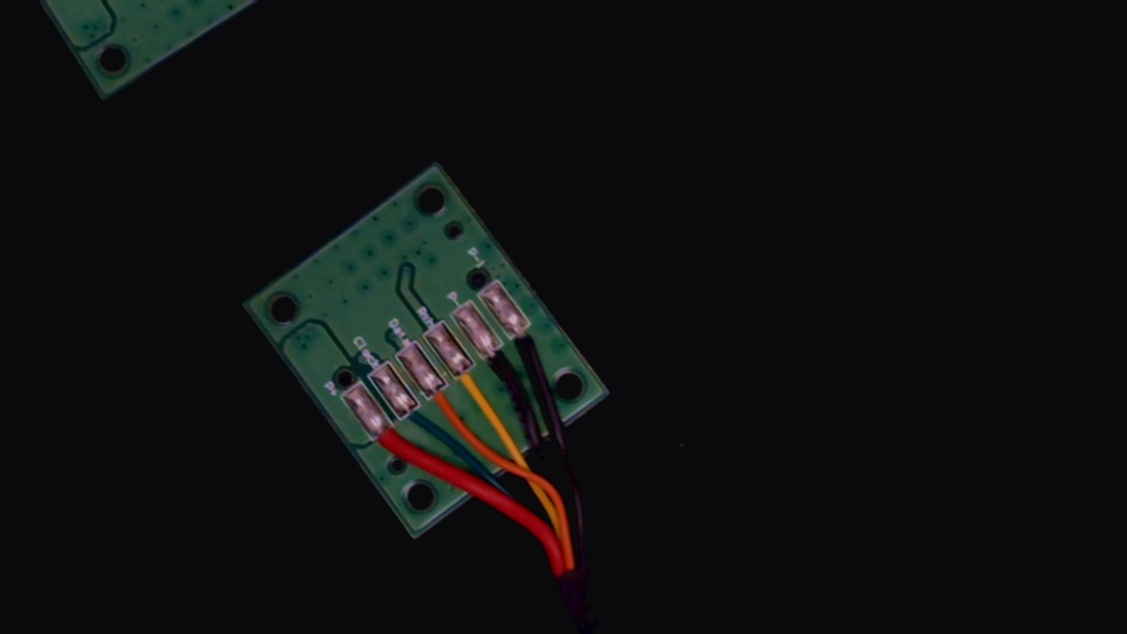Black: (472, 332, 525, 393)
Black1: (500, 310, 551, 369)
Green: (387, 391, 441, 453)
Orange: (415, 372, 467, 432)
Red: (361, 409, 420, 477)
Yellow: (443, 351, 497, 412)
